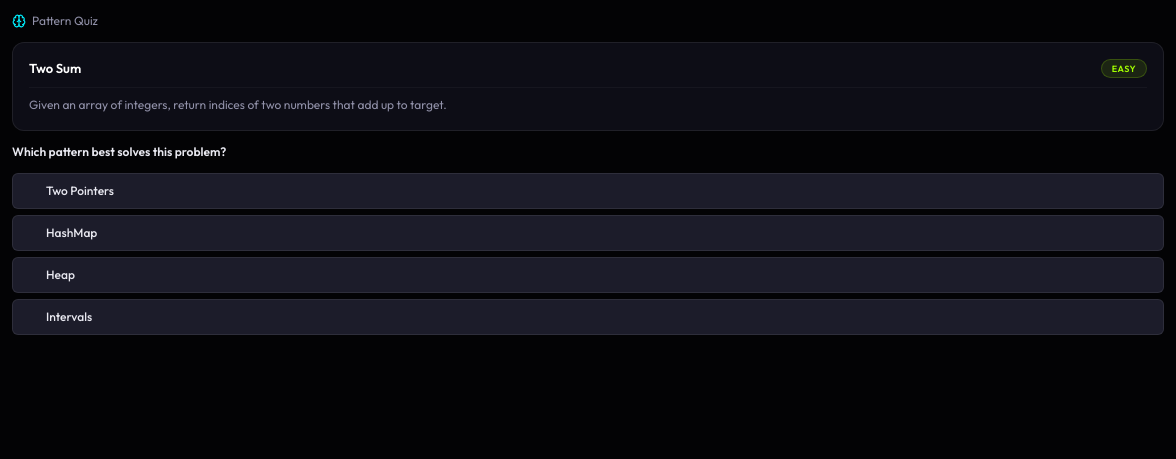
Test: PatternQuizPanel › answering correctly › clicking correct answer shows Correct! feedback
This screenshot has width=1176, height=459.
Click the button "HashMap".
click(72, 232)  # box [12, 214, 1164, 250]
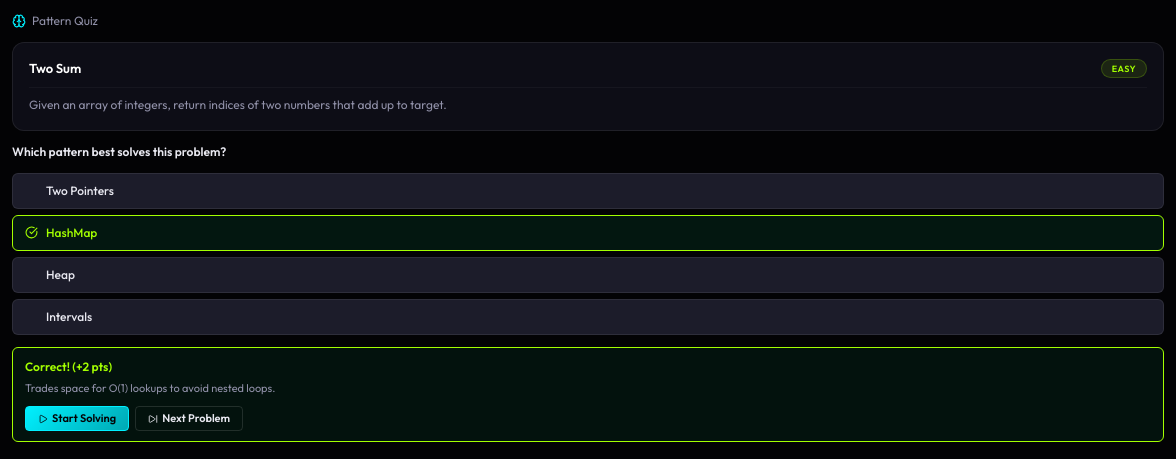
Now the text "Correct! (+2 pts)" is shown, box [25, 358, 112, 374]
